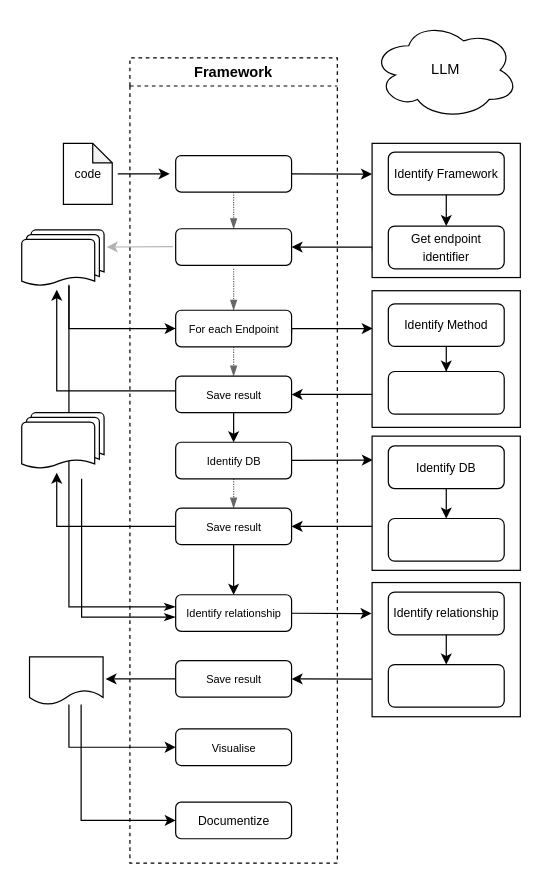
The diagram is 542 pixels wide and 885 high, and some of its shapes have lost their labels. Each missing label, with the centre of its shape:
DB Info: pixel 62 440
Endpoints: pixel 62 257
Identify Parameter: pixel 445 392
Identify table(key): pixel 445 539
Identify Web Framework: pixel 233 173
make graph: pixel 445 685
relationship data: pixel 65 680
Split Endpoint with identifer: pixel 233 246
